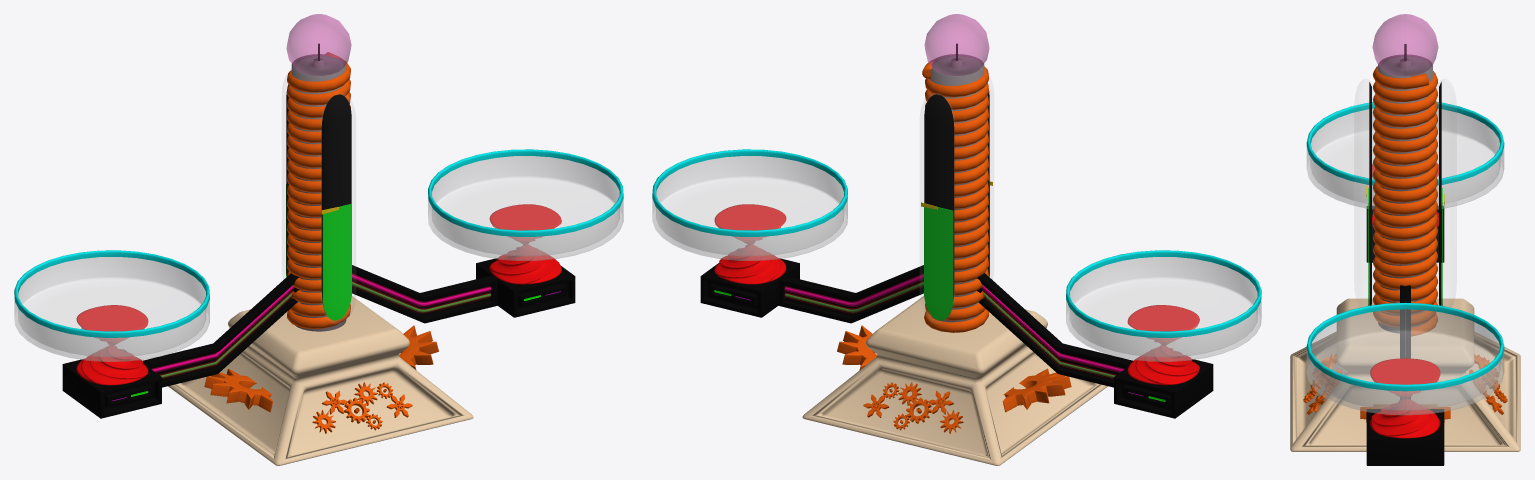
Rendered from Balanca.fbx.
3 renders of one model, left to right at view 1: azimuth 30°, elevation 25°; view 2: azimuth 150°, elevation 25°; view 3: azimuth 270°, elevation 25°, orthographic.
Visible parts, largest first — view 1: BaseBalanca, PratoESQ, PratoDIR, BracosBalanca, Spiral.001, ApoioESQ, ApoioDIR, InteriorTerm, Sphere, InteriorTerm.001, Cylinder, Engrenagem 4.001 (+6 smaller); view 2: BaseBalanca, PratoESQ, PratoDIR, BracosBalanca, Spiral.001, ApoioDIR, ApoioESQ, InteriorTerm.002, Sphere, InteriorTerm.003, Cylinder, Engrenagem 4.001 (+6 smaller); view 3: BaseBalanca, PratoDIR, Spiral.001, PratoESQ, BracosBalanca, ApoioDIR, Sphere, Cylinder, Engrenagem 4.001, InteriorTerm, InteriorTerm.002, Engrenagem 1.002.
Boxes of the visible parts, x1=… form: BaseBalanca: x1=168, y1=296, x2=473, y2=465; PratoESQ: x1=14, y1=250, x2=209, y2=361; PratoDIR: x1=428, y1=149, x2=623, y2=260; BracosBalanca: x1=62, y1=258, x2=575, y2=418; Spiral.001: x1=287, y1=52, x2=350, y2=328; ApoioESQ: x1=76, y1=305, x2=148, y2=385; ApoioDIR: x1=489, y1=204, x2=561, y2=284; InteriorTerm: x1=321, y1=94, x2=351, y2=314; Sphere: x1=286, y1=14, x2=351, y2=75; InteriorTerm.001: x1=322, y1=203, x2=351, y2=320; Cylinder: x1=291, y1=43, x2=346, y2=331; Engrenagem 4.001: x1=312, y1=382, x2=412, y2=433; BaseBalanca: x1=802, y1=296, x2=1107, y2=465; PratoESQ: x1=1066, y1=250, x2=1261, y2=361; PratoDIR: x1=652, y1=149, x2=847, y2=260; BracosBalanca: x1=700, y1=250, x2=1213, y2=418; Spiral.001: x1=922, y1=60, x2=988, y2=332; ApoioDIR: x1=714, y1=204, x2=786, y2=284; ApoioESQ: x1=1127, y1=305, x2=1199, y2=385; InteriorTerm.002: x1=924, y1=94, x2=954, y2=314; Sphere: x1=924, y1=14, x2=989, y2=75; InteriorTerm.003: x1=924, y1=207, x2=953, y2=320; Cylinder: x1=930, y1=43, x2=984, y2=322; Engrenagem 4.001: x1=863, y1=382, x2=963, y2=433; BaseBalanca: x1=1290, y1=298, x2=1520, y2=451; PratoDIR: x1=1306, y1=302, x2=1504, y2=415; Spiral.001: x1=1372, y1=66, x2=1437, y2=336; PratoESQ: x1=1306, y1=102, x2=1504, y2=209; BracosBalanca: x1=1366, y1=206, x2=1444, y2=465; ApoioDIR: x1=1370, y1=358, x2=1440, y2=438; Sphere: x1=1372, y1=14, x2=1438, y2=76; Cylinder: x1=1378, y1=44, x2=1432, y2=333; Engrenagem 4.001: x1=1303, y1=354, x2=1507, y2=414; InteriorTerm: x1=1369, y1=82, x2=1371, y2=305; InteriorTerm.002: x1=1439, y1=82, x2=1441, y2=305; Engrenagem 1.002: x1=1360, y1=404, x2=1450, y2=422.
Size of the model in its own units: 2257 by 1538 by 766.
